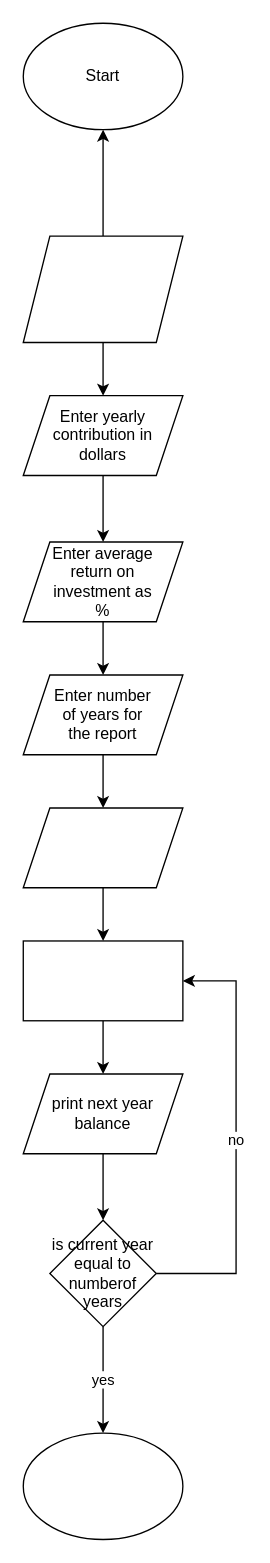
Image size: 270x1563. Some labels were removed from this diagram. Here are the shapes that lost their labels. From the top down, the centre of each, then its label:
(102,288): Enter starting balance in dollars
(102,847): print starting balance
(102,980): calculate next year balance
